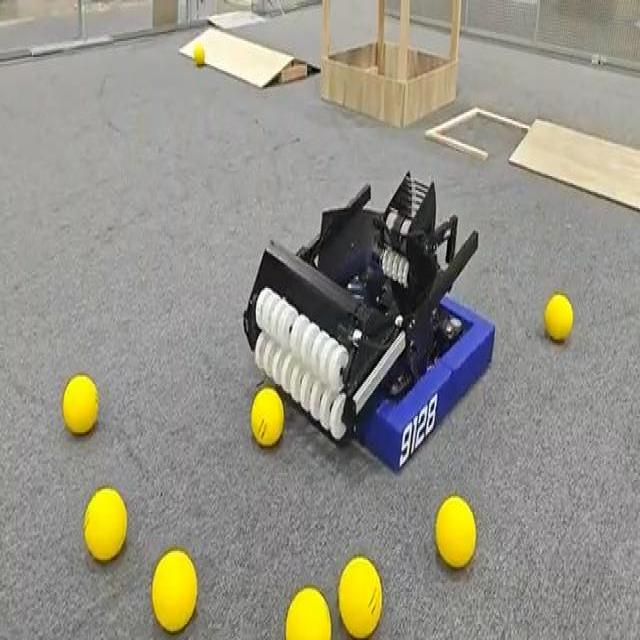Fuel: (151, 548, 197, 632), (151, 549, 197, 631), (338, 556, 382, 636), (83, 488, 127, 562), (83, 487, 126, 560), (434, 495, 476, 568), (435, 496, 475, 567), (285, 587, 331, 638), (62, 373, 98, 434), (62, 374, 98, 435), (251, 388, 283, 446), (544, 293, 573, 342), (544, 294, 572, 342), (193, 42, 205, 68)
